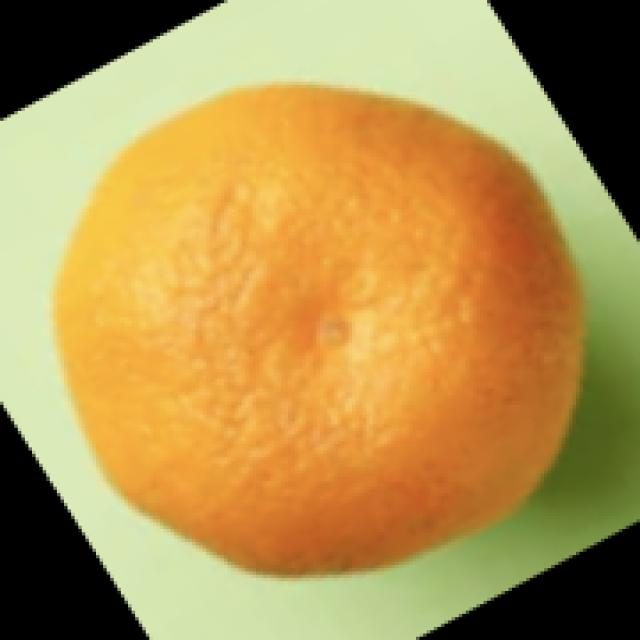matang: (49, 92, 589, 580)
